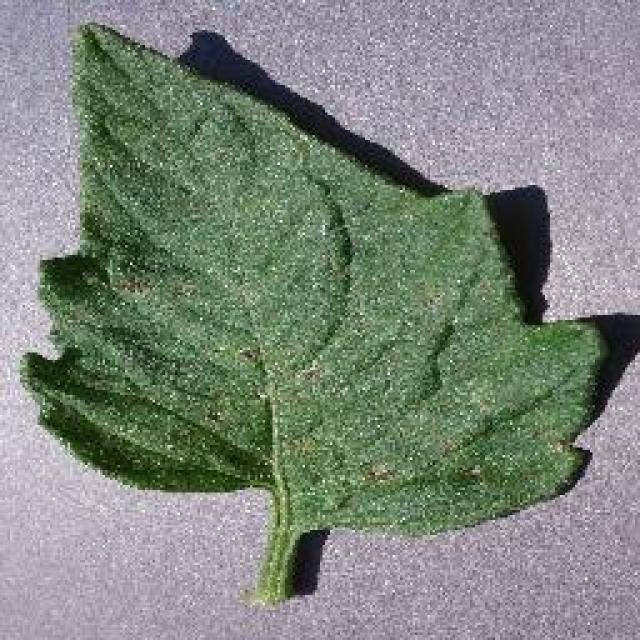Tom_Septoria_leaf_spot: (207, 314, 458, 502)
